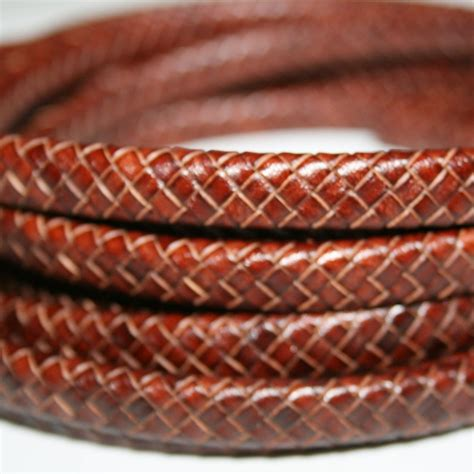cuero: (7, 133, 474, 453)
